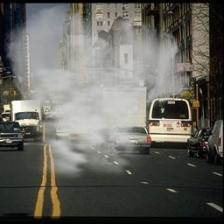fire: (2, 4, 193, 188)
